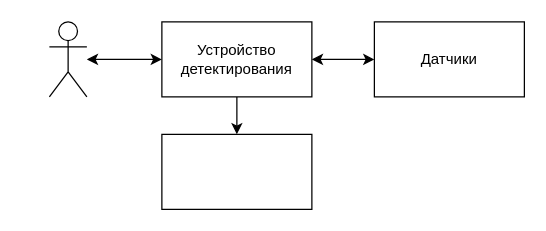
This 546x231 diagram has some shape labels left out. Each missing label, with the centre of its shape:
"Оператор АС" goes at point (67, 59).
"Система управления защитой" goes at point (236, 171).
